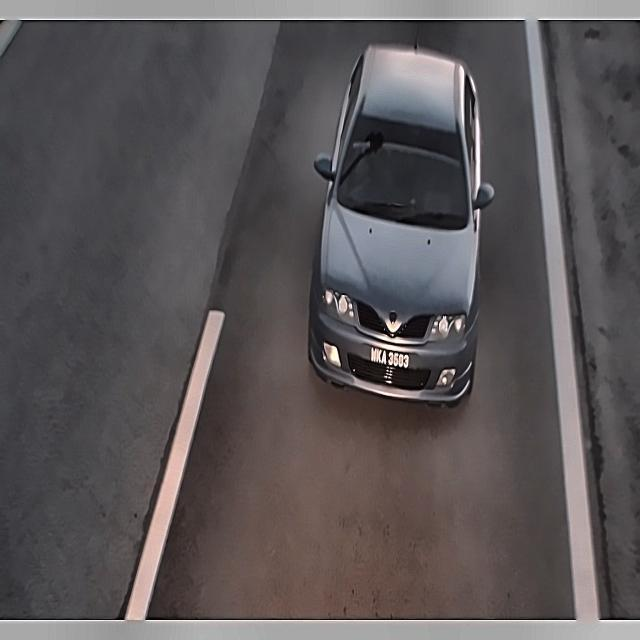car: (365, 338, 415, 375)
